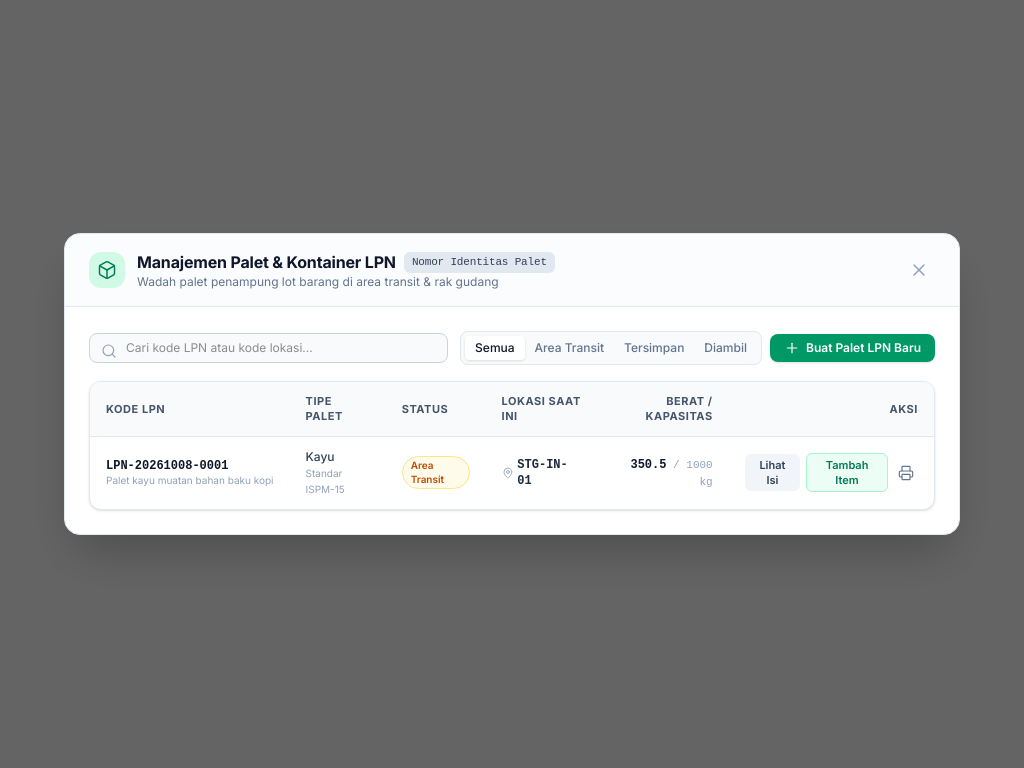
Test: LPNManagementModal Component › views LPN items detail when Lihat Isi is clicked
This screenshot has width=1024, height=768.
Click the button "Lihat Isi": (772, 473) [745,454,800,491]
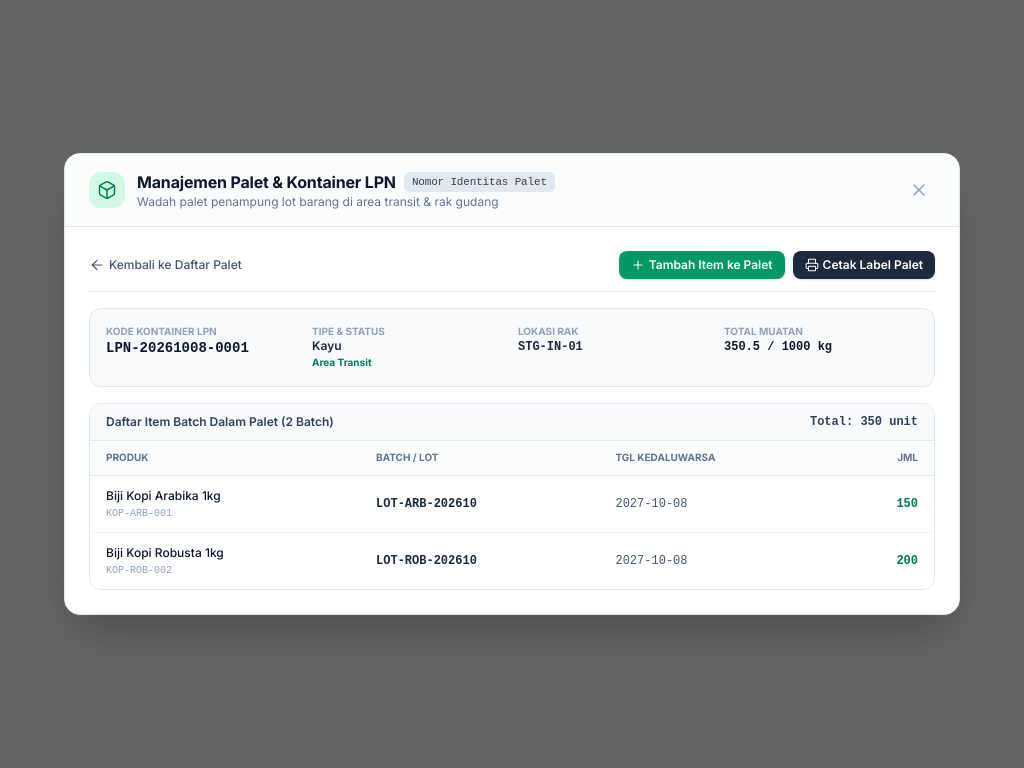
Expected: the button "Kembali ke Daftar Palet" is shown, [89,257,242,273]
Expected: the text "LOT-ARB-202610" is shown, [360,475,599,532]
Expected: the text "LOT-ROB-202610" is shown, [360,532,599,589]
